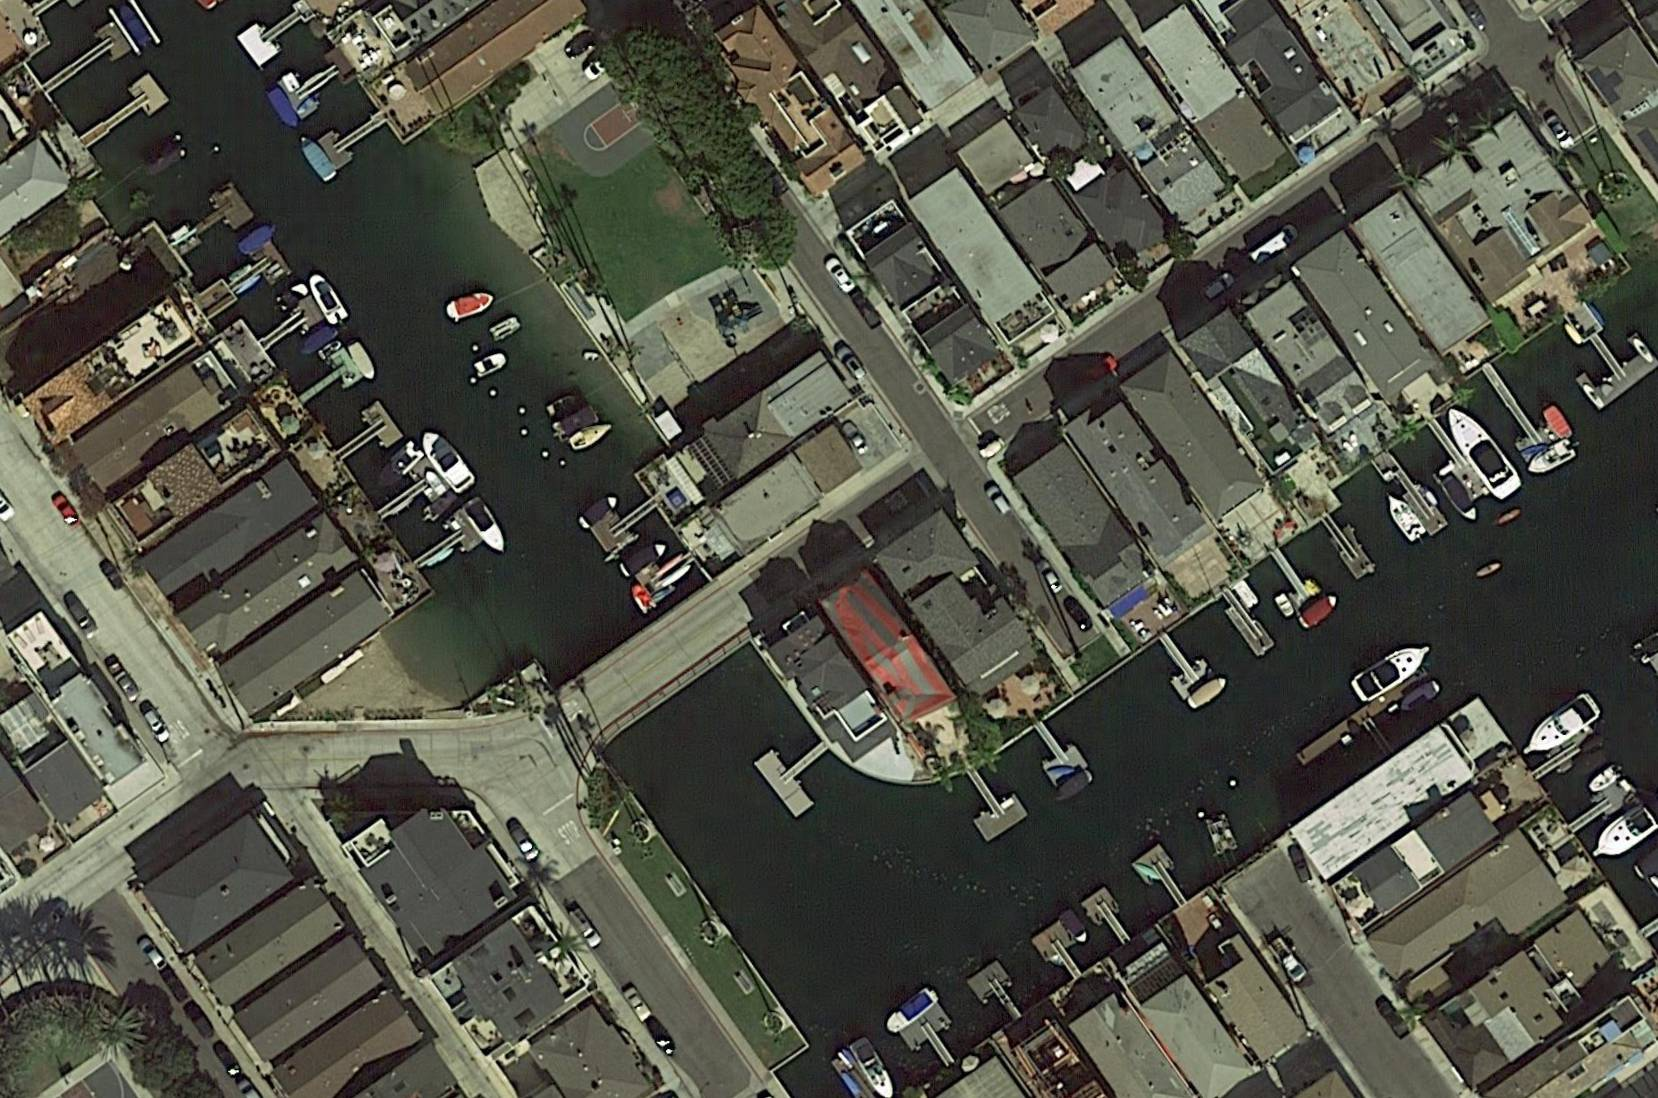harbor: (1295, 667, 1433, 768), (1548, 300, 1658, 411), (1474, 357, 1562, 464), (754, 724, 847, 819), (195, 238, 292, 322), (36, 20, 134, 100), (78, 74, 170, 154), (165, 183, 255, 262), (952, 759, 1031, 844), (1372, 451, 1450, 537), (370, 458, 453, 533), (1420, 419, 1493, 502), (276, 48, 357, 119), (315, 102, 396, 172), (1148, 625, 1219, 703), (406, 509, 484, 578), (898, 1002, 968, 1078), (1023, 713, 1091, 790), (330, 401, 403, 471), (589, 489, 664, 556), (238, 1, 312, 67), (293, 348, 364, 413), (1562, 779, 1635, 843), (1262, 545, 1327, 615), (252, 294, 326, 354), (966, 960, 1029, 1028), (1527, 725, 1600, 783), (1134, 843, 1194, 912), (1319, 513, 1377, 581), (1031, 920, 1089, 986), (1221, 589, 1276, 659), (1081, 887, 1137, 948), (635, 545, 698, 598)
large vehicle: (1247, 221, 1301, 270), (1266, 935, 1309, 986)
ship: (1439, 401, 1524, 504), (1515, 691, 1604, 763), (1350, 634, 1439, 705), (412, 422, 479, 498), (1586, 803, 1658, 869), (462, 496, 513, 561), (848, 1036, 901, 1098), (884, 985, 942, 1037), (371, 440, 426, 491), (301, 271, 350, 328), (1380, 490, 1428, 545), (1437, 475, 1483, 527), (1524, 437, 1578, 480), (294, 134, 339, 184), (619, 539, 670, 581), (444, 288, 500, 324), (1296, 591, 1343, 632), (577, 491, 621, 533), (1398, 676, 1444, 716), (263, 87, 301, 134), (1186, 674, 1232, 712), (569, 418, 616, 453), (237, 219, 281, 257), (1050, 768, 1096, 805), (116, 4, 152, 48), (298, 324, 339, 359), (346, 341, 379, 384), (1058, 908, 1092, 948), (1587, 763, 1622, 797), (473, 350, 510, 380), (422, 468, 449, 498)
small vehicle: (638, 1013, 683, 1061), (566, 906, 605, 951), (1375, 998, 1414, 1043), (1080, 349, 1122, 388), (107, 659, 145, 703), (62, 594, 100, 638), (849, 289, 885, 333), (1198, 268, 1238, 306), (157, 964, 192, 1006), (212, 1040, 246, 1081), (135, 934, 169, 973), (1543, 113, 1577, 152), (835, 344, 869, 384), (507, 823, 540, 864), (823, 256, 857, 295), (140, 706, 173, 745), (1062, 596, 1097, 632), (185, 1002, 218, 1040), (839, 419, 871, 458), (51, 491, 81, 529), (623, 986, 653, 1022), (1035, 559, 1065, 596), (98, 558, 127, 594), (1288, 846, 1315, 885), (985, 484, 1015, 518)
